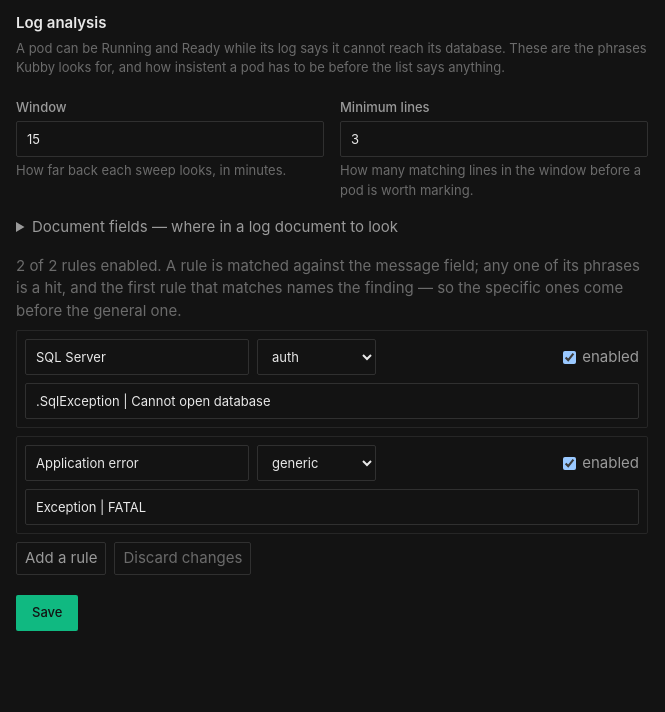
it: LogAnalysisSection › offers the field names the connection test shows in a document
Click the heading "Document fields — where in a log document to look".
click(215, 226)  # box [32,217,398,236]
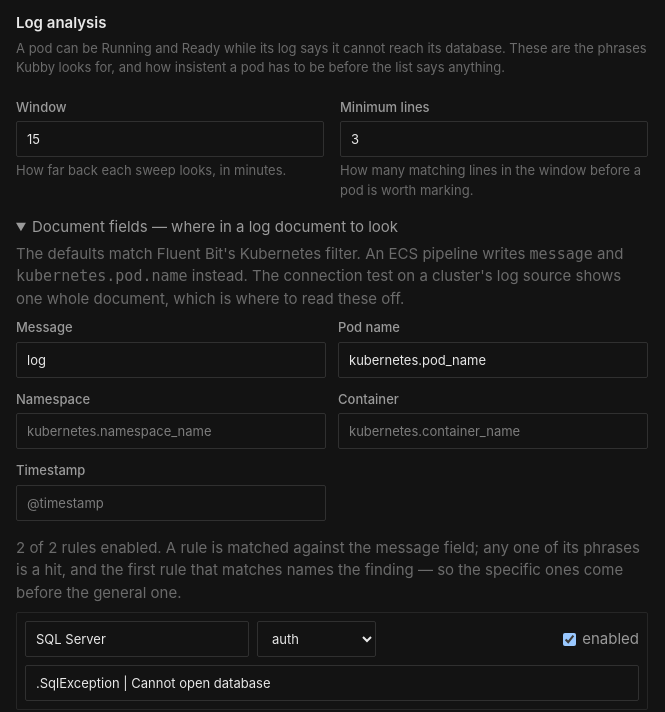
Check: the field showing "kubernetes.pod_name" is shown, box [338,342,648,378]
